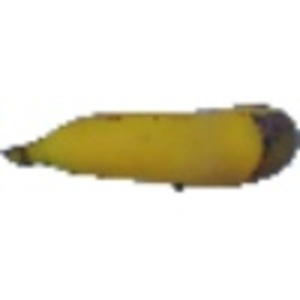banana: (1, 97, 297, 191)
